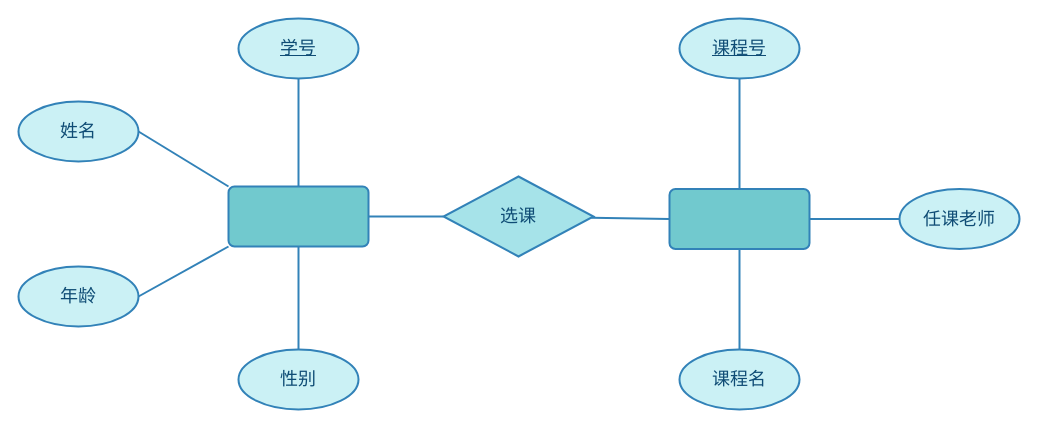
Image size: 1037x427. Some labels were removed from this diagram. The shapes that lost their labels are listed below. From the top down, each one's centre as x and y in pixels, then its label:
(x=298, y=216): 学生
(x=739, y=219): 课程
